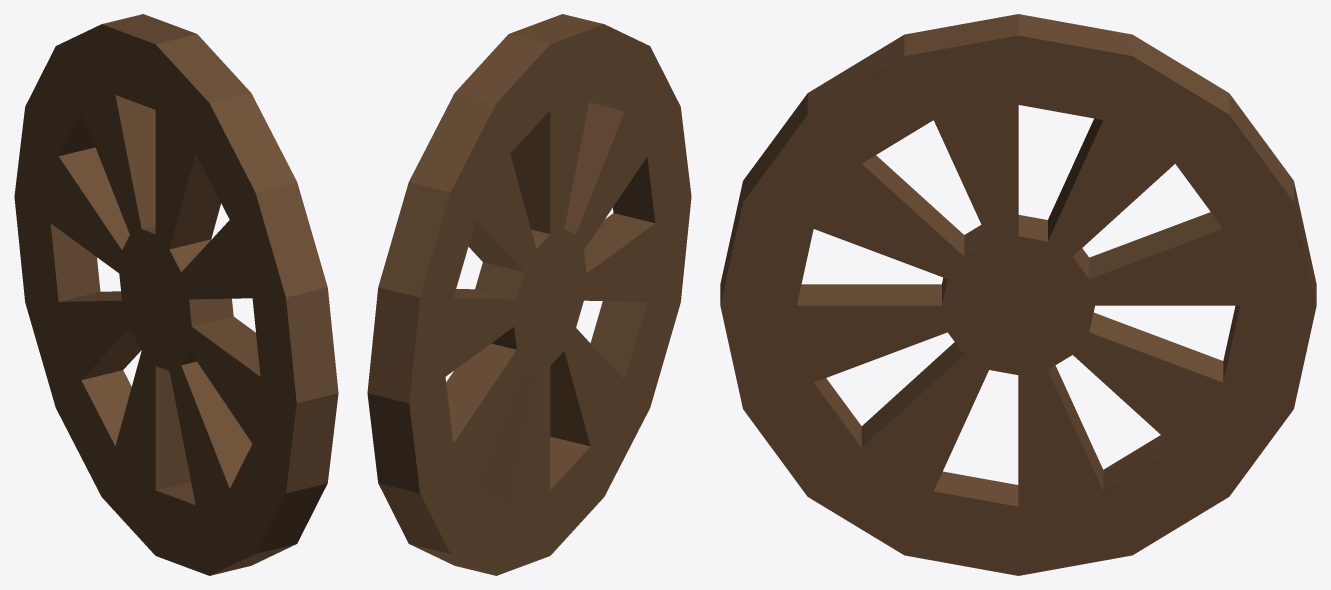
Rendered from cannon_parts_2.fbx.
3 renders of one model, left to right at view 1: azimuth 30°, elevation 25°; view 2: azimuth 150°, elevation 25°; view 3: azimuth 270°, elevation 25°, orthographic. The views are drawn at different scales.
Visible parts, largest first — view 1: cannon_parts_2; view 2: cannon_parts_2; view 3: cannon_parts_2.
Part boxes in pixels (x1=…): cannon_parts_2: x1=14, y1=14, x2=338, y2=575; cannon_parts_2: x1=367, y1=14, x2=691, y2=575; cannon_parts_2: x1=720, y1=14, x2=1316, y2=575.
Bounding box in the file's own units: 33.4 × 390 × 390.
